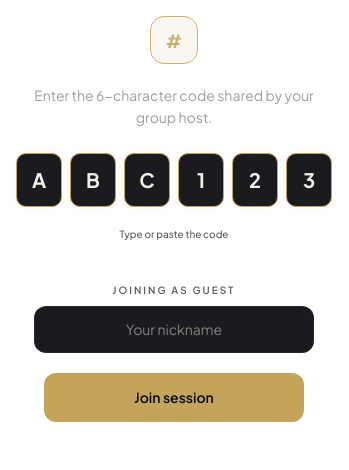
SessionJoin › shows error when nickname is 1 character (too short)
Type "A" into the field with placeholder "Your nickname" at point(174, 329), box [34,306,314,353]
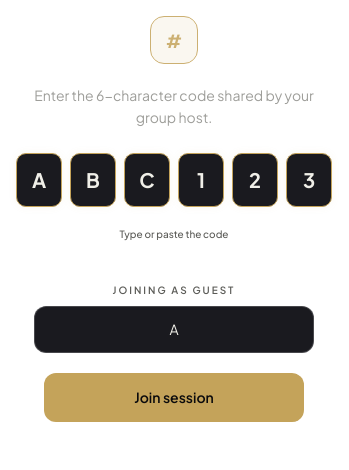
Click the button "Join session" at point(174, 397), box [44,373,304,422]
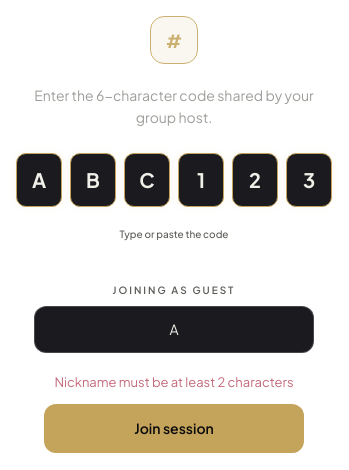
Check: the text "Nickname must be at least 2 characters" is shown, box [54,373,294,392]
